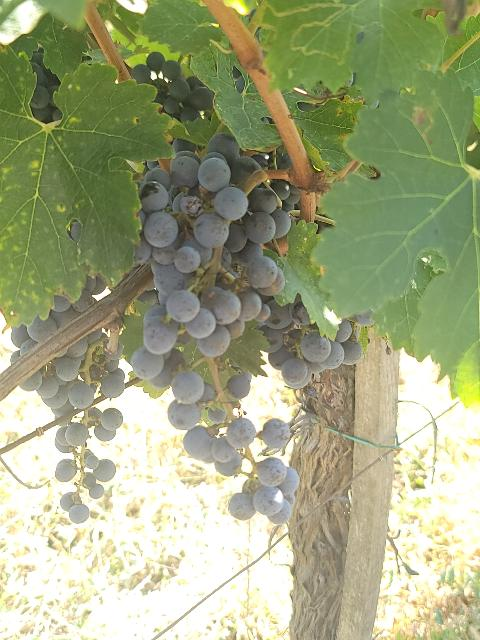grapes: (130, 311, 294, 524), (139, 132, 281, 358), (20, 329, 125, 522), (11, 289, 95, 362)
